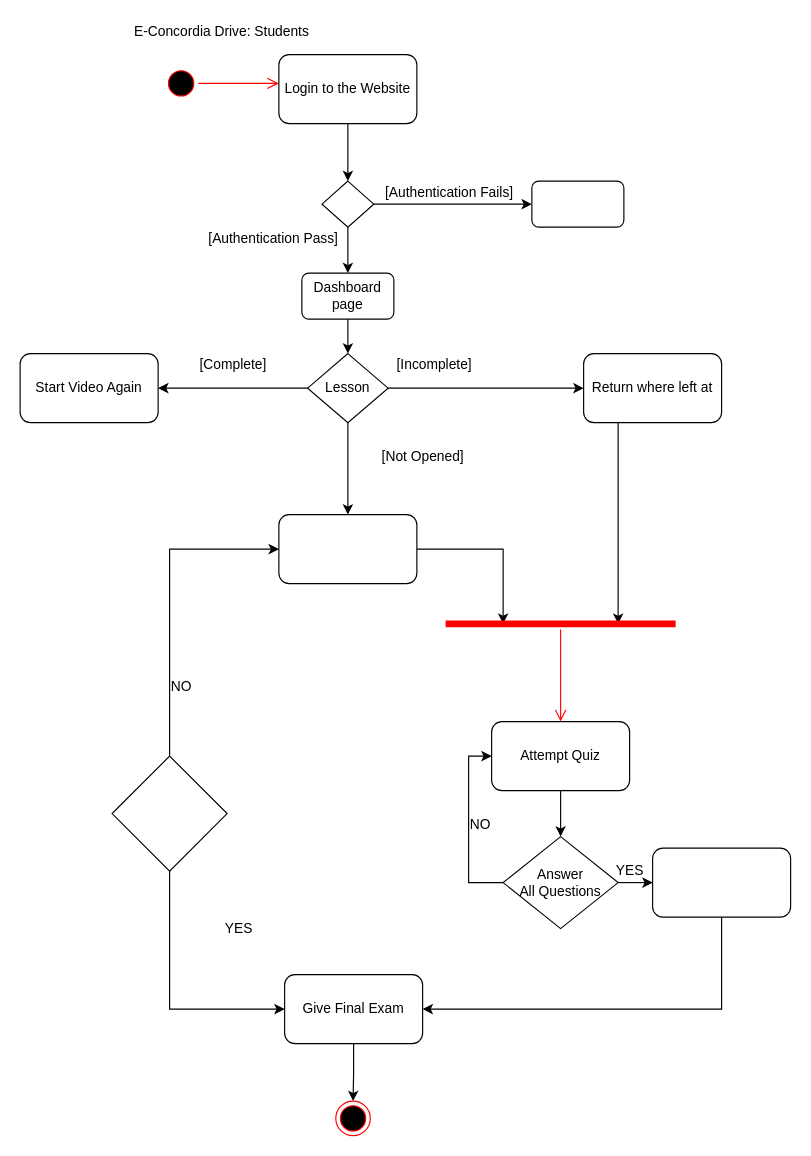
This 811x1156 diagram has some shape labels left out. The centre of each missing label's shape, as x and y in pixels:
Complete All Lesson: the point at 169,813
Finish Attempt: the point at 721,882
No Access: the point at 577,203
Start New Lesson: the point at 347,548
